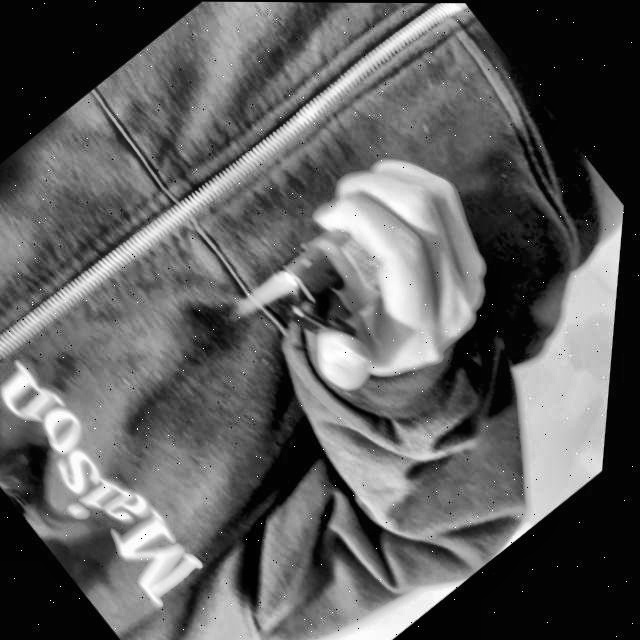Fire: (232, 267, 298, 326)
